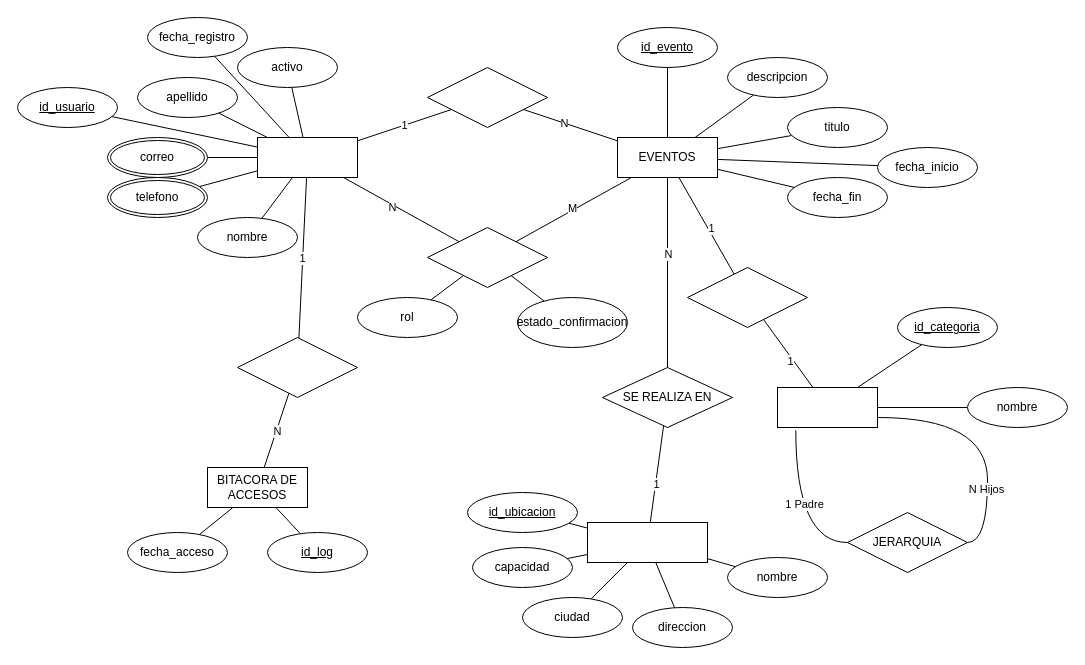
Some shapes in this 1085 by 665 pixel diagram are drawn without their labels. The box of each missing label's shape, as (x1, y1, x2, y2) in pixels:
CATEGORIA: (776, 386, 878, 428)
PARTENECE: (686, 266, 808, 328)
PARTICIPACION: (426, 226, 548, 288)
PROPIETARIO: (426, 66, 548, 128)
REGISTRA: (236, 336, 358, 398)
UBICACIONES: (586, 522, 708, 562)
USUARIOS: (256, 136, 358, 178)
